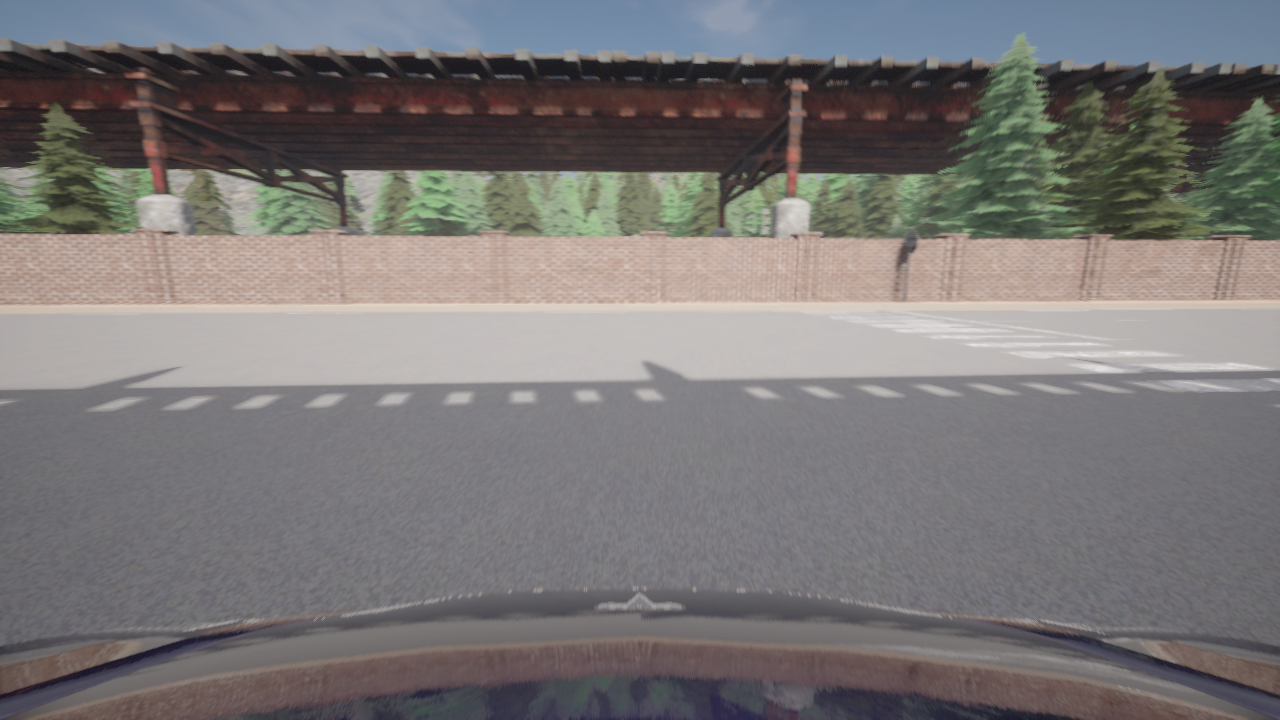cyclist: (0, 588, 1279, 719)
